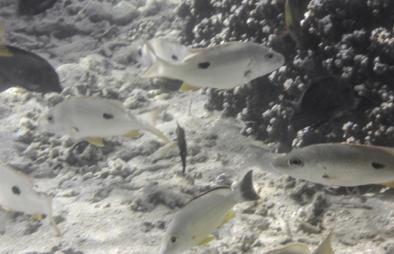Lutjanidae -Snappers-: (137, 31, 288, 95), (156, 166, 259, 254), (35, 95, 173, 148), (264, 138, 394, 192)
